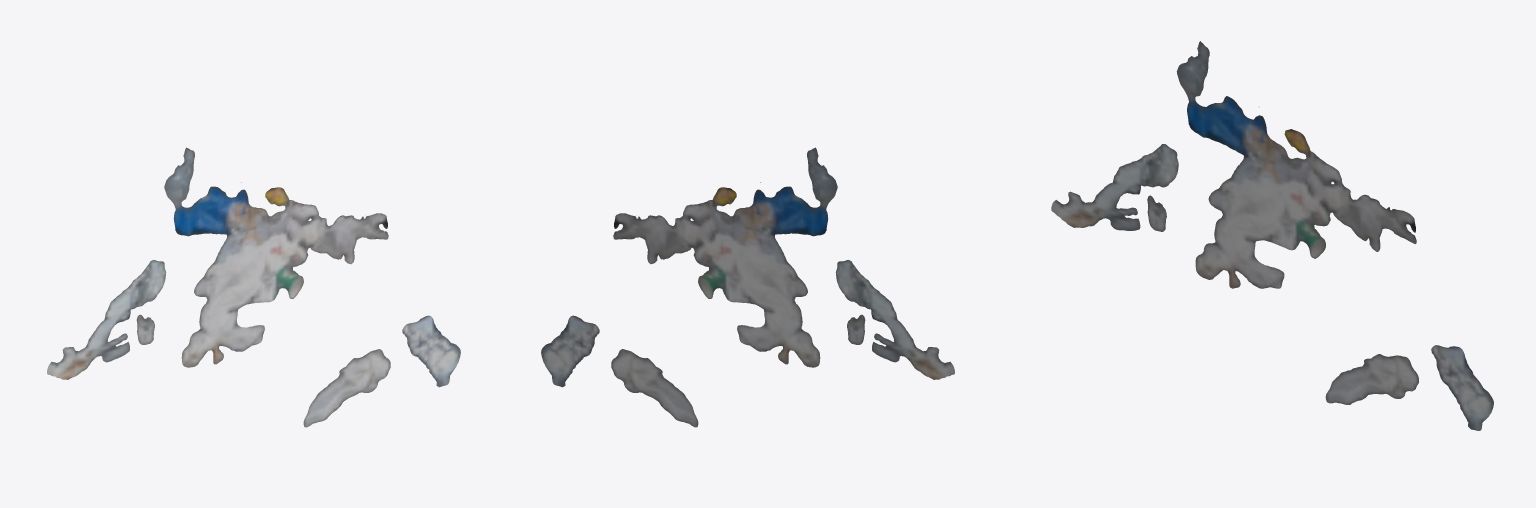
File: hall_trash_2.FBX
3 renders of one model, left to right at view 1: azimuth 30°, elevation 25°; view 2: azimuth 150°, elevation 25°; view 3: azimuth 330°, elevation 25°, orthographic. The views are drawn at different scales.
Visible parts, largest first — view 1: trash_3; view 2: trash_3; view 3: trash_3.
Part boxes in pixels (<box>): trash_3: <box>47,147,460,427</box>; trash_3: <box>541,147,954,427</box>; trash_3: <box>1051,41,1493,430</box>.
Size of the model in its own units: 24.65 by 20.66 by 5.28e-06.
